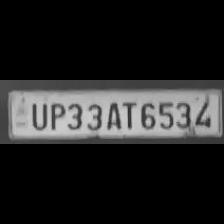3: (84, 99, 104, 129), (64, 100, 82, 130), (174, 98, 190, 130)
4: (191, 96, 213, 128)
5: (156, 100, 174, 128)
6: (136, 99, 156, 129)
A: (104, 99, 122, 129)
P: (46, 100, 64, 130)
T: (118, 99, 136, 129)
U: (26, 100, 48, 130)
